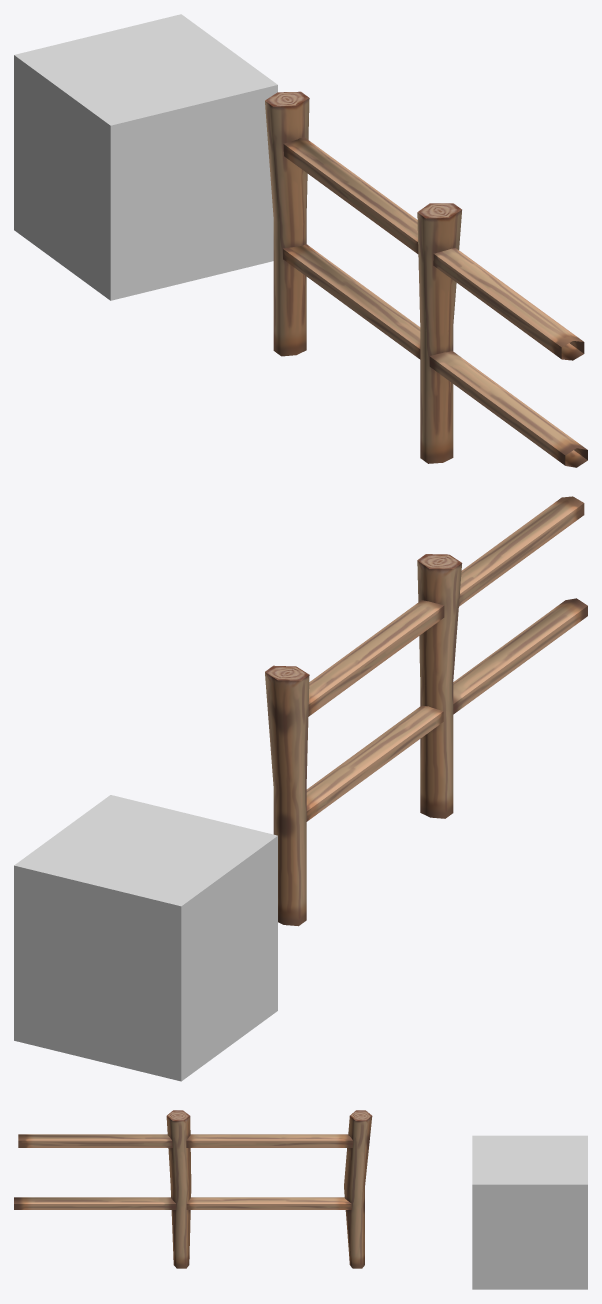
The model's file is FencePiece.glb.
The picture shows the model from 3 angles, top to bottom: view 1: azimuth 30°, elevation 25°; view 2: azimuth 150°, elevation 25°; view 3: azimuth 270°, elevation 25°; orthographic projection. The views are drawn at different scales.
Visible parts, largest first — view 1: Cube-noimp, FencePiece; view 2: Cube-noimp, FencePiece; view 3: Cube-noimp, FencePiece.
Boxes of the visible parts, box(x1,y1,x2,y2) form: Cube-noimp: box(14, 14, 277, 300); FencePiece: box(265, 91, 587, 467); Cube-noimp: box(14, 795, 277, 1081); FencePiece: box(265, 496, 587, 926); Cube-noimp: box(472, 1135, 587, 1289); FencePiece: box(14, 1110, 372, 1268).
Size of the model in its own units: 1 by 1.42 by 4.96.
Materials: 1 (1 with a texture image).
